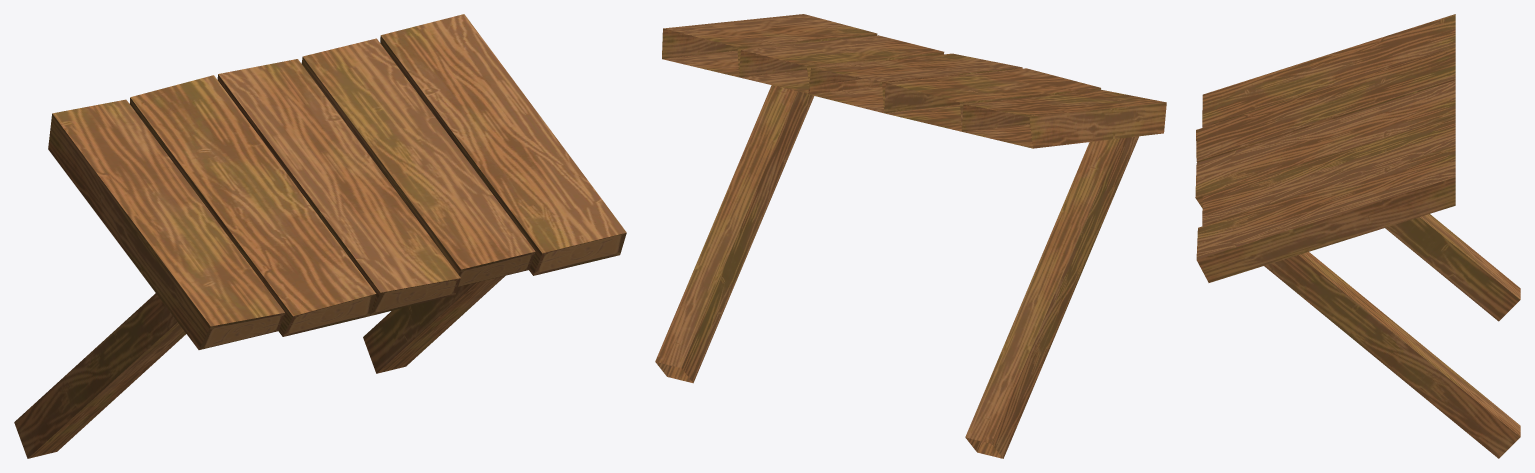
The model's file is Window_Roof_Wide.gltf.
The picture shows the model from 3 angles, left to right: view 1: azimuth 30°, elevation 25°; view 2: azimuth 150°, elevation 25°; view 3: azimuth 270°, elevation 25°; orthographic projection. The views are drawn at different scales.
Visible parts, largest first — view 1: Window_Roof_Wide; view 2: Window_Roof_Wide; view 3: Window_Roof_Wide.
Part boxes in pixels (x1,y1,x2,y2): Window_Roof_Wide: [14, 14, 626, 458]; Window_Roof_Wide: [655, 14, 1166, 458]; Window_Roof_Wide: [1195, 14, 1520, 458].
Bounding box in the file's own units: 1.42 × 1.18 × 1.18.
2 materials, 2 textured.
